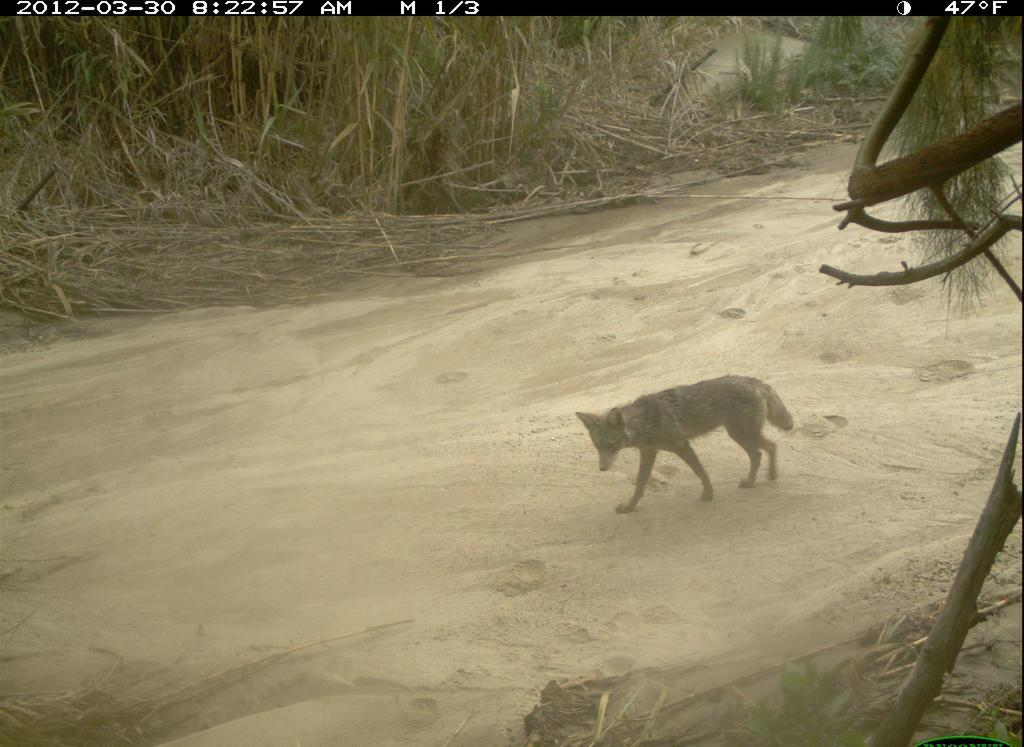coyote: (575, 370, 797, 519)
